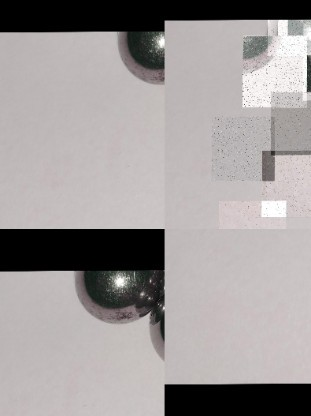ironball: (72, 270, 155, 319), (114, 31, 166, 88), (242, 34, 275, 74), (145, 297, 163, 366)
